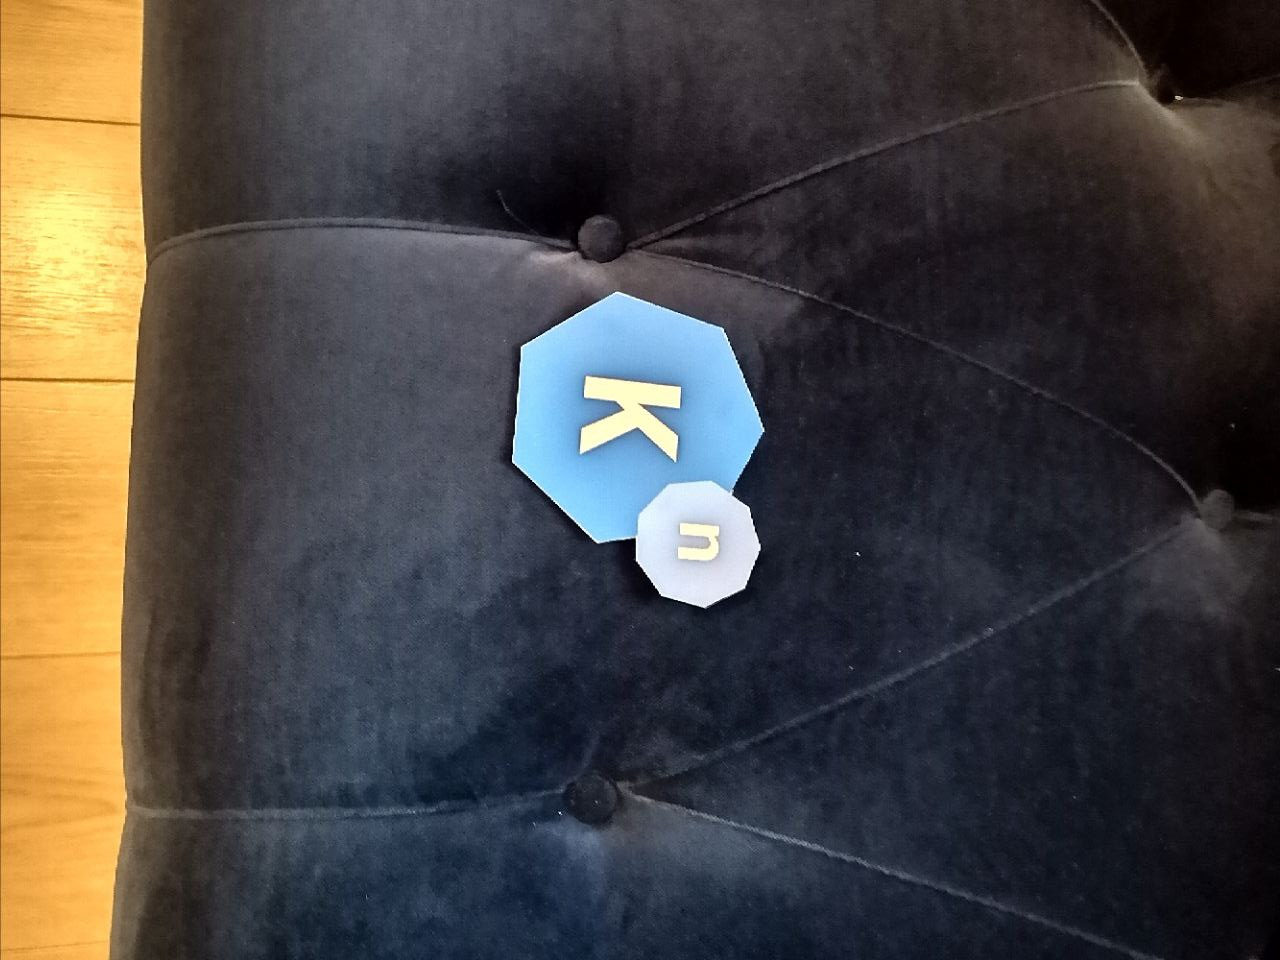knative: (506, 294, 770, 613)
